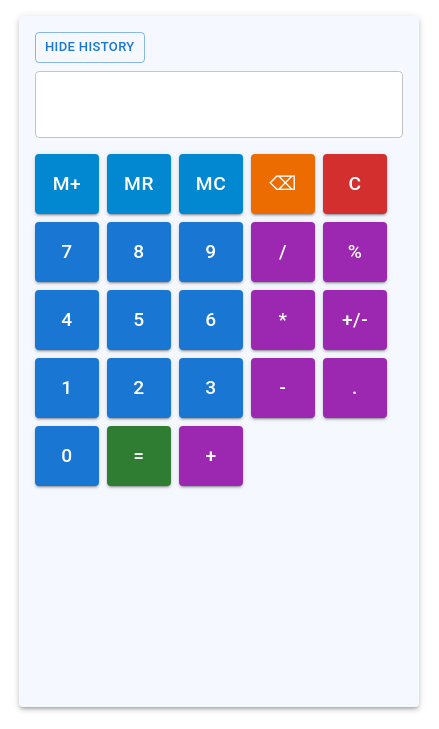
Test: Calculator › stores value in memory (M+ and MR)
What coordinates should you click on to do the following:
click the button "9"
I would click on:
 (211, 252)
Its box is x1=179 y1=222 x2=243 y2=282.
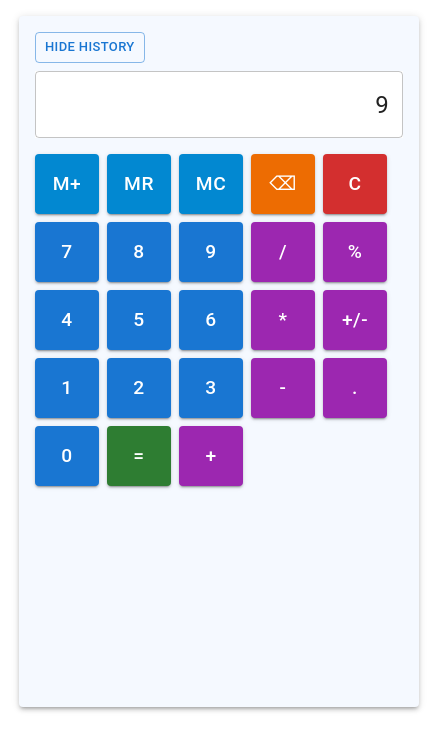
What coordinates should you click on to do the following:
click the button "M+"
I would click on:
 (67, 184)
Its box is x1=35 y1=154 x2=99 y2=214.
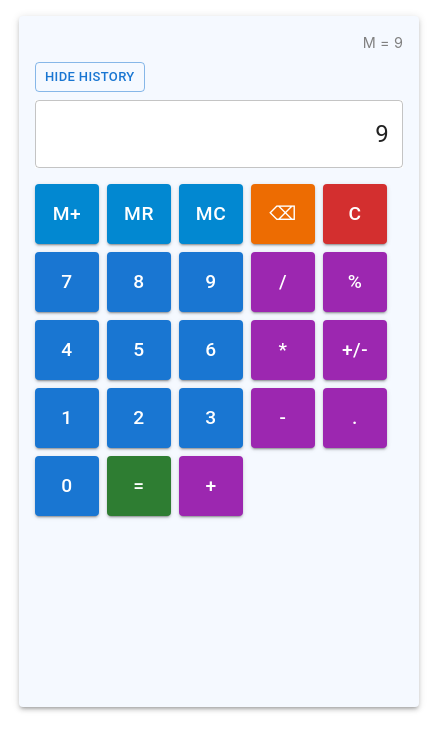
What coordinates should you click on to do the following:
click the button "C"
I would click on:
 (355, 214)
Its box is x1=323 y1=184 x2=387 y2=244.
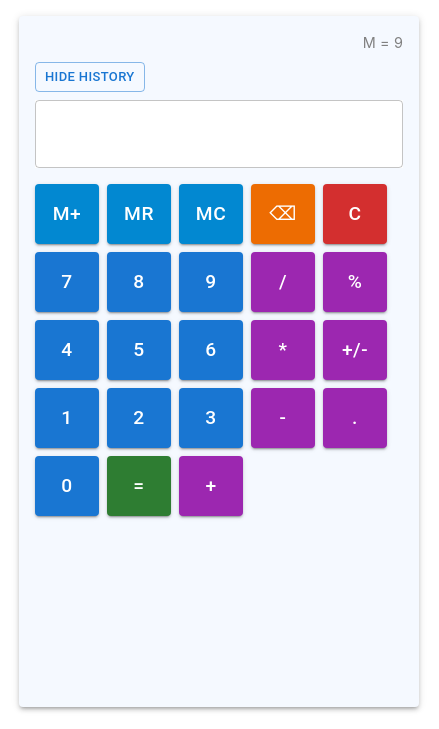
What coordinates should you click on to do the following:
click the button "MR"
I would click on:
 (139, 214)
Its box is x1=107 y1=184 x2=171 y2=244.
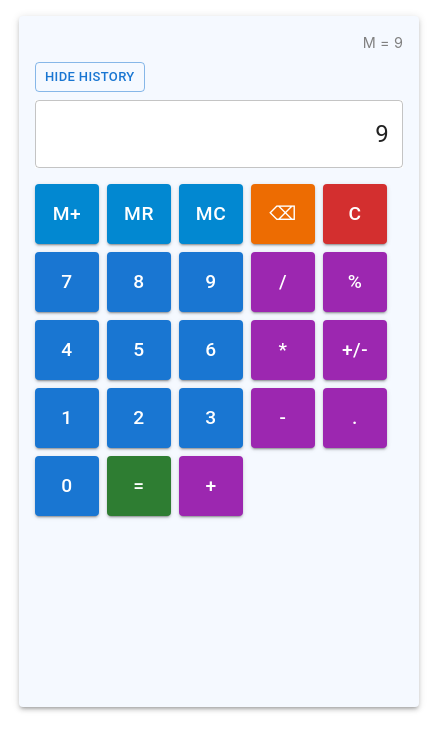
expect the field showing "9" is shown: met, box x1=35 y1=100 x2=403 y2=168
